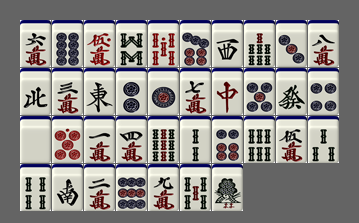0m: (84, 20, 115, 67)
0p: (52, 116, 83, 163)
0s: (148, 20, 179, 67)
1m: (84, 116, 115, 163)
1p: (148, 68, 179, 115)
1s: (212, 164, 243, 211)
1z: (84, 68, 115, 115)
2m: (84, 164, 115, 211)
2p: (116, 68, 147, 115)
2s: (180, 116, 211, 163)
2z: (52, 164, 83, 211)
3m: (52, 68, 83, 115)
3p: (276, 20, 307, 67)
3s: (308, 116, 339, 163)
3z: (212, 20, 243, 67)
4m: (116, 116, 147, 163)
4p: (308, 68, 339, 115)
4s: (20, 164, 51, 211)
4z: (20, 68, 51, 115)
5m: (276, 116, 307, 163)
5p: (244, 68, 275, 115)
5s: (180, 164, 211, 211)
5z: (20, 116, 51, 163)
6m: (20, 20, 51, 67)
6p: (212, 116, 243, 163)
6s: (244, 116, 275, 163)
6z: (276, 68, 307, 115)
7m: (180, 68, 211, 115)
7p: (180, 20, 211, 67)
7s: (244, 20, 275, 67)
7z: (212, 68, 243, 115)
8m: (308, 20, 339, 67)
8p: (52, 20, 83, 67)
8s: (116, 20, 147, 67)
9m: (148, 164, 179, 211)
9p: (116, 164, 147, 211)
9s: (148, 116, 179, 163)
